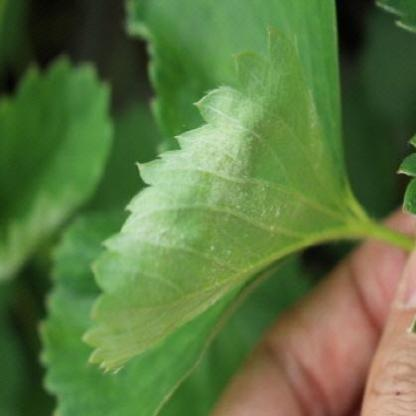Strawberry_Powdery_Mildew_Leaf: (79, 23, 367, 372)
